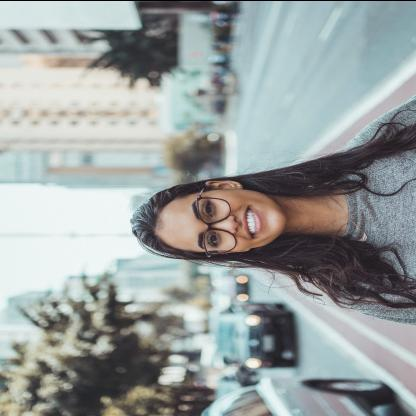Eye: (206, 231, 221, 246), (202, 201, 216, 217)
Mouth: (242, 206, 262, 238)
Nose: (212, 214, 238, 233)
